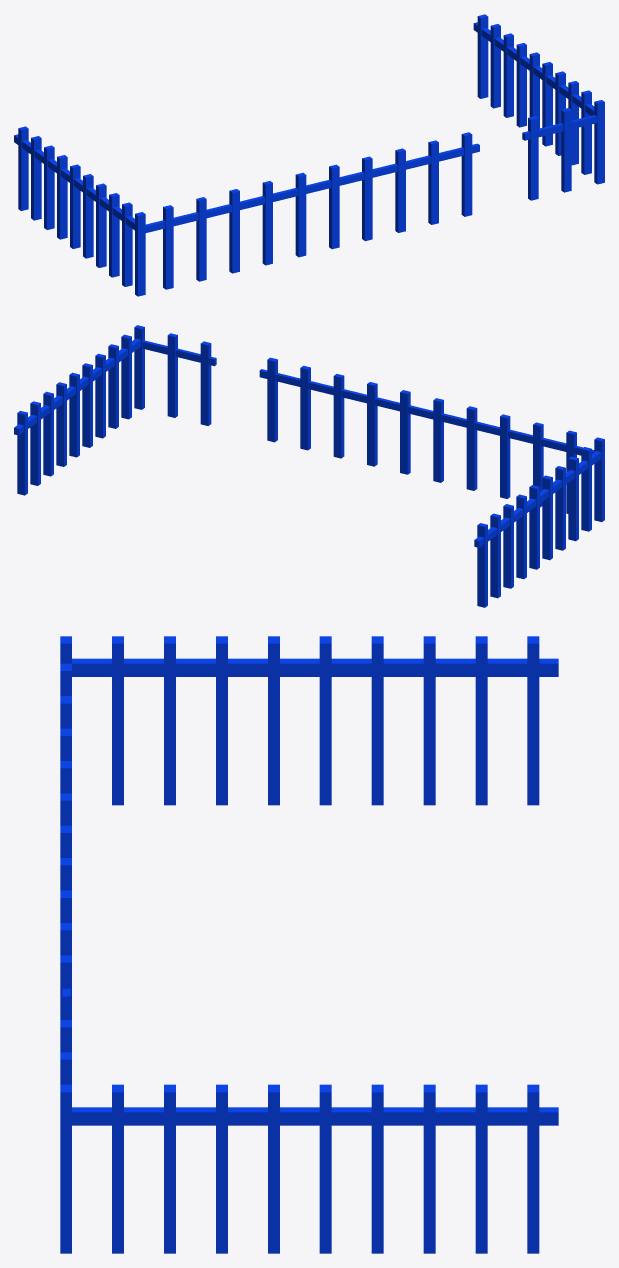
Rendered from m_BalconyFence.FBX.
3 renders of one model, top to bottom at view 1: azimuth 30°, elevation 25°; view 2: azimuth 150°, elevation 25°; view 3: azimuth 270°, elevation 25°, orthographic. The views are drawn at different scales.
Parts seen in each view (by area): view 1: Object004; view 2: Object004; view 3: Object004.
Part boxes in pixels (x1=…): Object004: x1=14, y1=14, x2=604, y2=296; Object004: x1=14, y1=325, x2=604, y2=607; Object004: x1=60, y1=636, x2=558, y2=1253.
Bounding box in the file's own units: 264 × 122 × 43.59.
